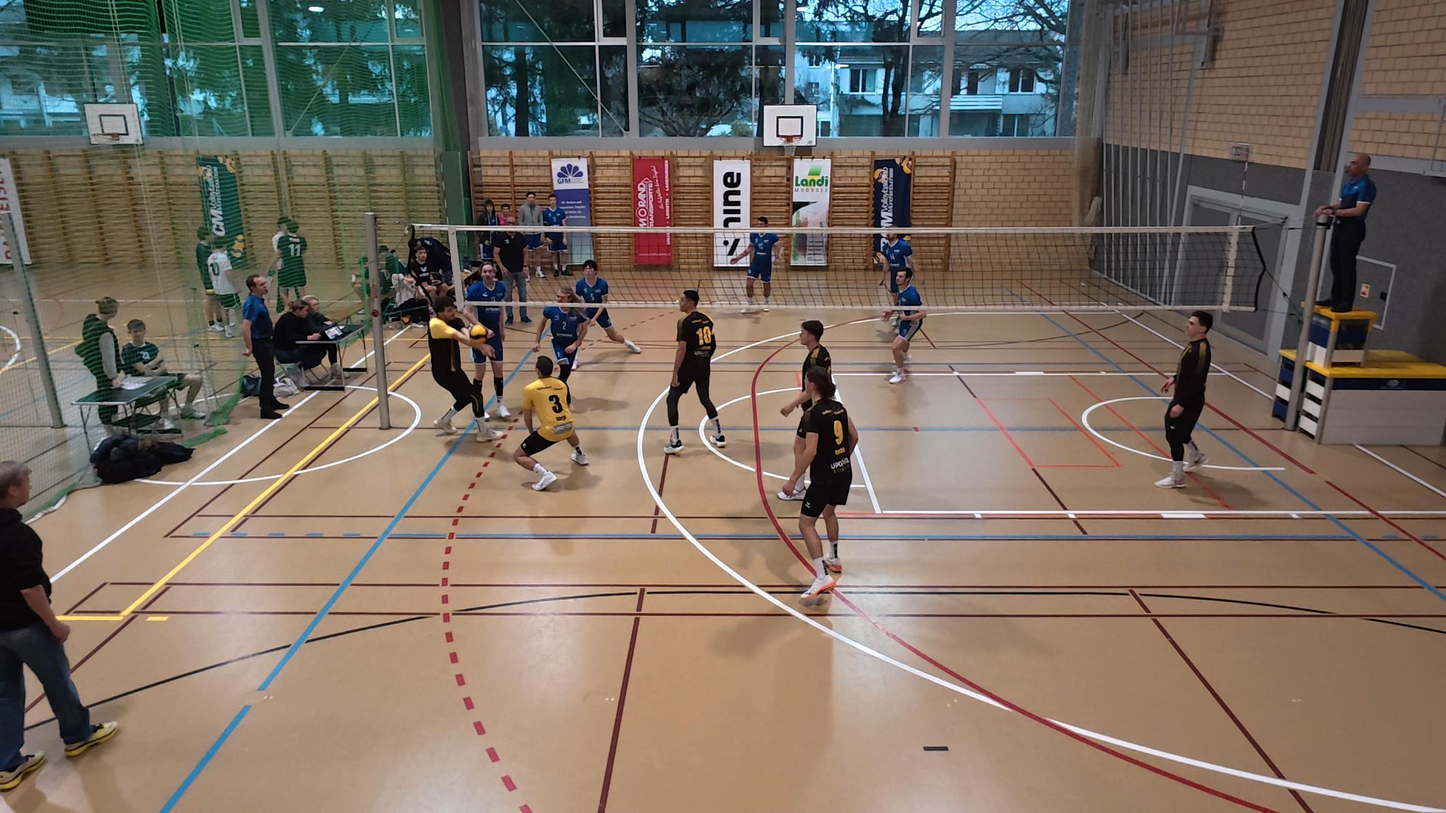Dig: (426, 295, 498, 444)
Player: (786, 370, 857, 601), (533, 287, 641, 408), (506, 353, 591, 491), (776, 319, 837, 501), (1154, 310, 1215, 488), (663, 289, 727, 454), (460, 261, 512, 418), (570, 258, 641, 354), (885, 269, 928, 384), (870, 229, 916, 336), (740, 215, 782, 317)
ball: (469, 322, 489, 340)
